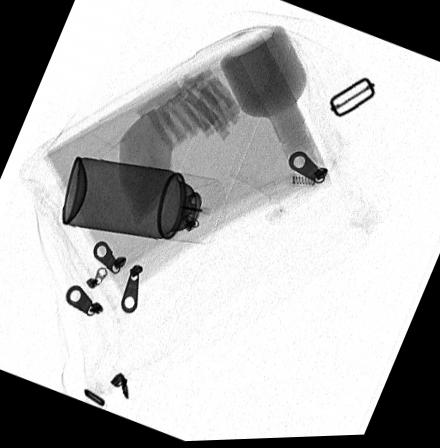Sprayer: (61, 156, 227, 247)
